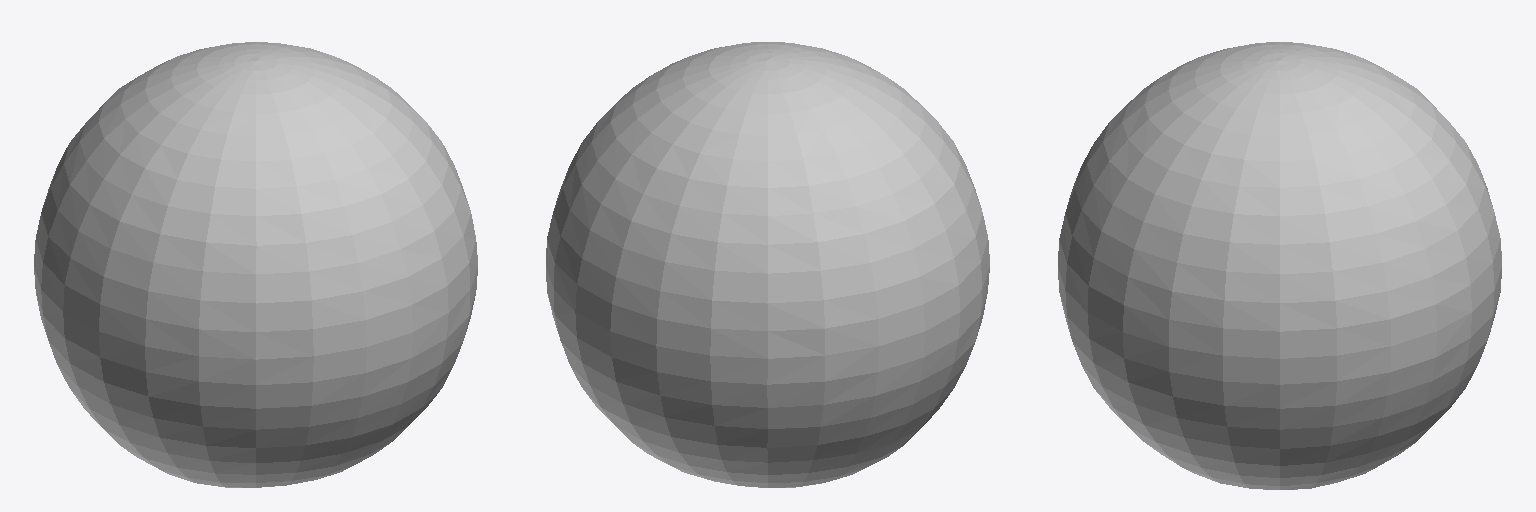
Rendered from Eye_L.obj.
3 renders of one model, left to right at view 1: azimuth 30°, elevation 25°; view 2: azimuth 150°, elevation 25°; view 3: azimuth 270°, elevation 25°, orthographic.
Parts seen in each view (by area): view 1: Eye_L; view 2: Eye_L; view 3: Eye_L.
Part boxes in pixels (x1,y1,x2,y2): Eye_L: (34,42,477,487); Eye_L: (546,42,989,487); Eye_L: (1058,42,1501,489).
Bounding box in the file's own units: 0.0258 × 0.025 × 0.0258.